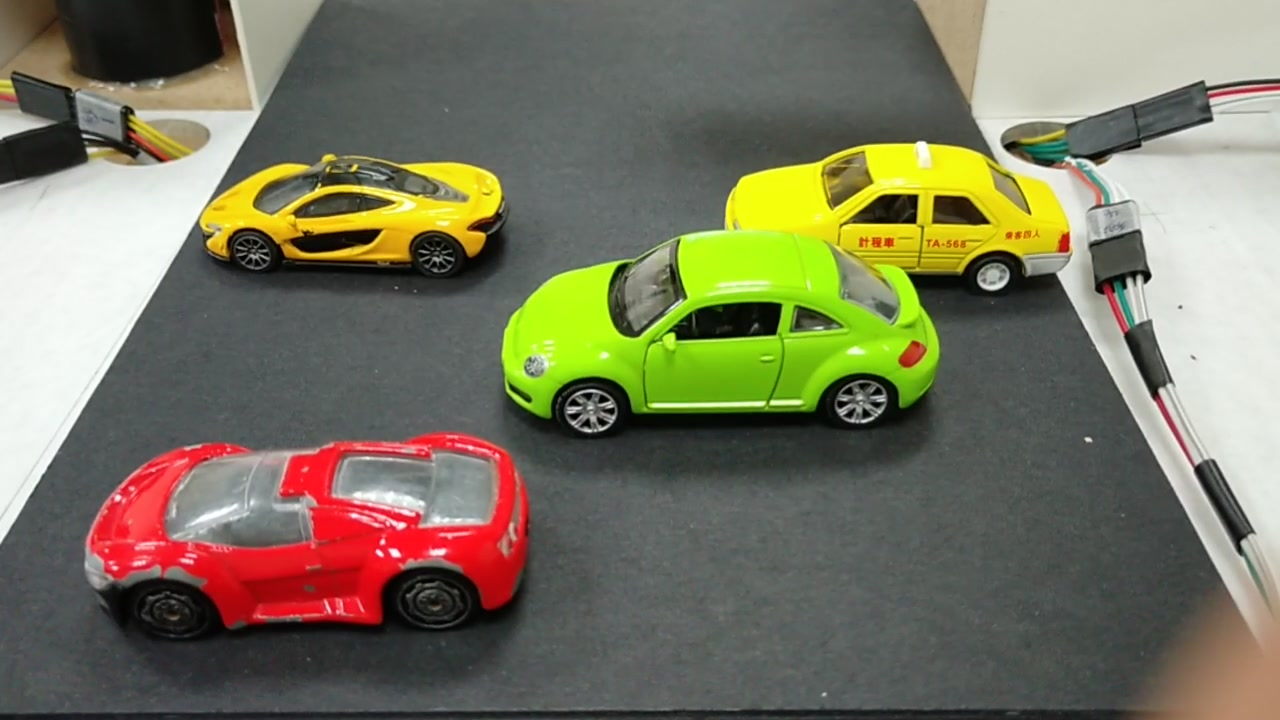car: (81, 455, 539, 637), (508, 261, 939, 437), (726, 154, 1079, 297), (200, 162, 509, 282)
